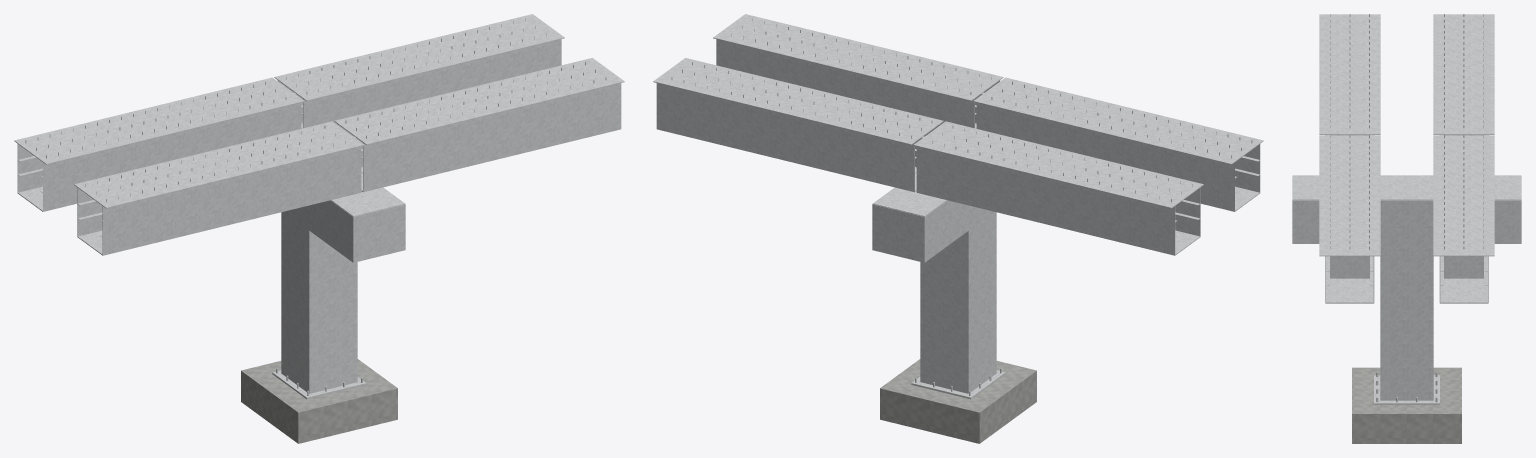
The model's file is stainless-steel-flyover-piers-and-girders.glb.
3 renders of one model, left to right at view 1: azimuth 30°, elevation 25°; view 2: azimuth 150°, elevation 25°; view 3: azimuth 270°, elevation 25°, orthographic. The views are drawn at different scales.
Parts seen in each view (by area): view 1: BoxGirderPlates, PierShell&Diaphragms, PileCap(context), PierCap, ShearStuds, BasePlate&AnchorBolts; view 2: BoxGirderPlates, PierShell&Diaphragms, PileCap(context), PierCap, ShearStuds, BasePlate&AnchorBolts; view 3: BoxGirderPlates, PierShell&Diaphragms, PierCap, PileCap(context), Diaphragms&Stiffeners, ShearStuds, BasePlate&AnchorBolts.
Part boxes in pixels (x1,y1,x2,y2): BoxGirderPlates: (14,14,624,255); PierShell&Diaphragms: (281,212,357,393); PileCap(context): (241,359,397,443); PierCap: (284,187,405,262); ShearStuds: (25,18,606,202); BasePlate&AnchorBolts: (272,368,366,399); BoxGirderPlates: (653,14,1263,255); PierShell&Diaphragms: (920,212,996,393); PileCap(context): (880,359,1036,443); PierCap: (872,187,993,262); ShearStuds: (671,18,1252,202); BasePlate&AnchorBolts: (911,368,1005,399); BoxGirderPlates: (1319,14,1494,303); PierShell&Diaphragms: (1380,244,1433,400); PierCap: (1292,175,1521,243); PileCap(context): (1352,367,1461,443); Diaphragms&Stiffeners: (1326,135,1487,285); ShearStuds: (1330,14,1483,249); BasePlate&AnchorBolts: (1374,372,1439,404).
Bounding box in the file's own units: 26 × 14.51 × 10.44.
4 materials, 3 textured.
